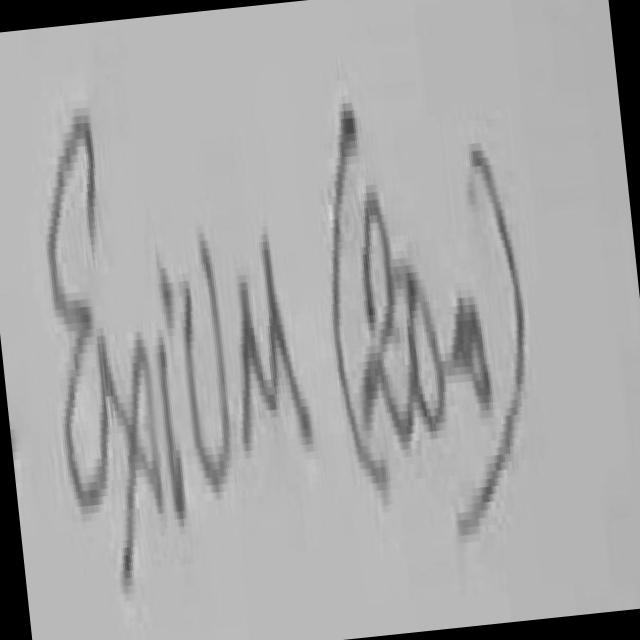0: (407, 265, 443, 426)
2: (363, 192, 404, 438)
E: (47, 115, 108, 506)
M: (241, 234, 312, 450)
i: (161, 337, 185, 514), (159, 260, 173, 324)
u: (185, 240, 227, 487)
x: (103, 339, 163, 581)
